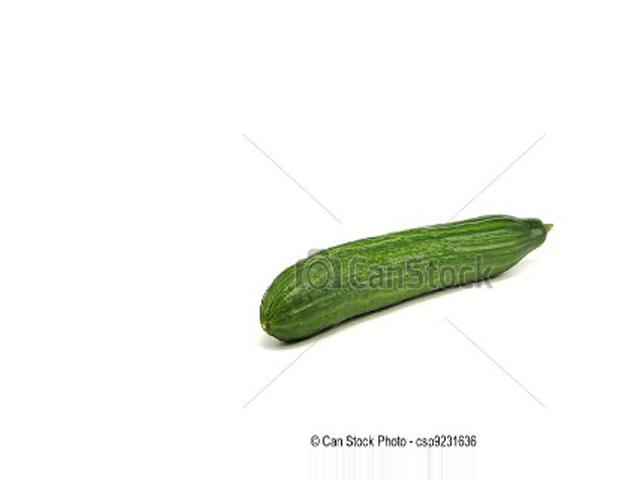cucumber: (261, 216, 552, 342)
